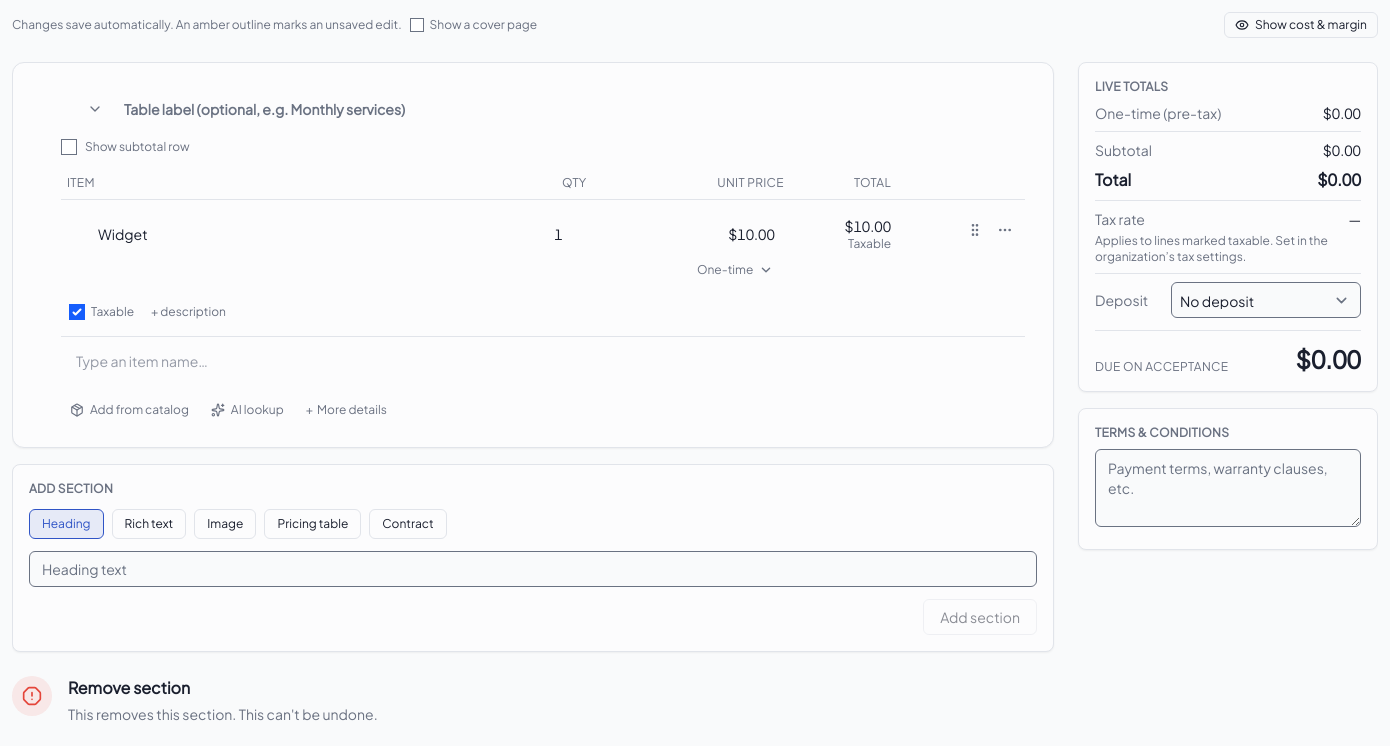
Test: QuoteEditor — add line image from URL › the URL field is hidden until "From URL" is clicked
Expected: the row with test id "quote-line-line-1" is shown, [61,200,1025,292]
Click the button with test id "quote-line-actions-line-1" at (1005,230), box [991,216,1019,244]
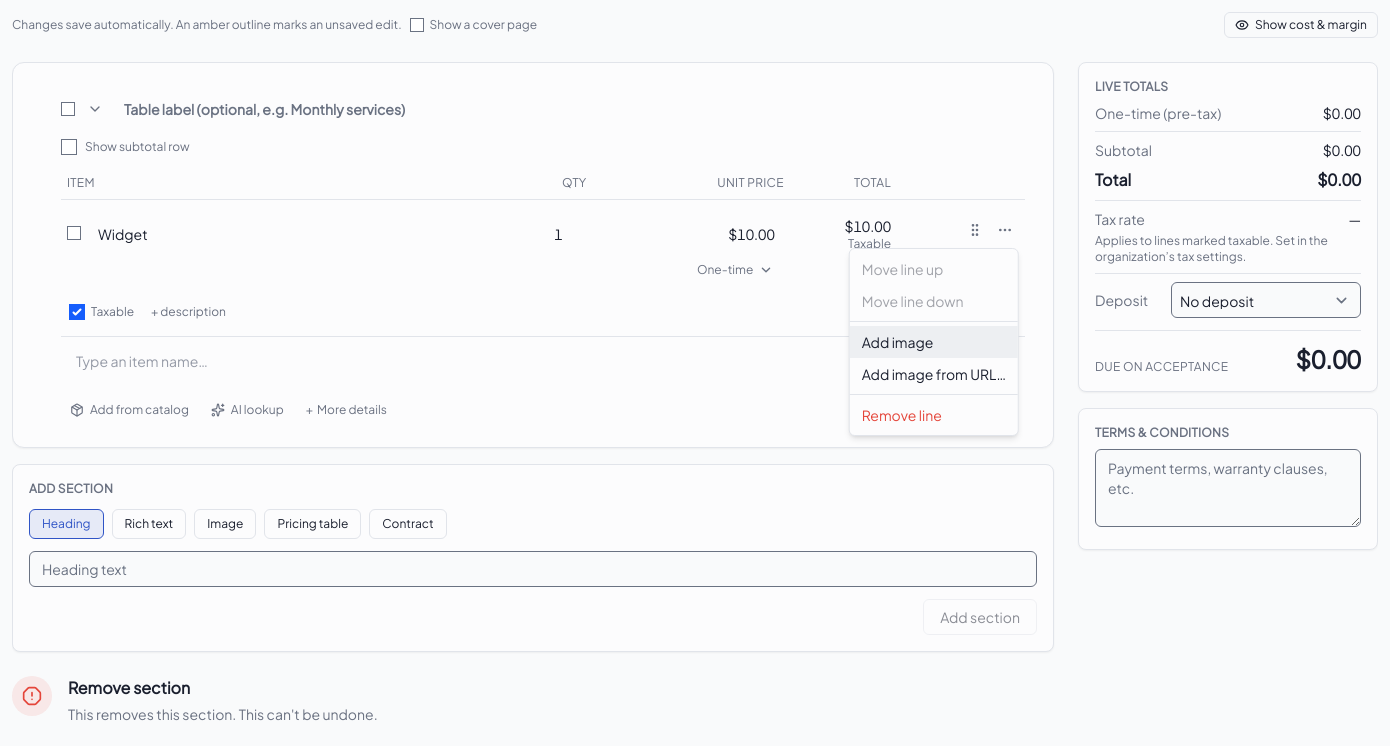
Click the menu item with test id "quote-line-image-url-toggle-line-1" at (934,374), box [850,358,1018,390]
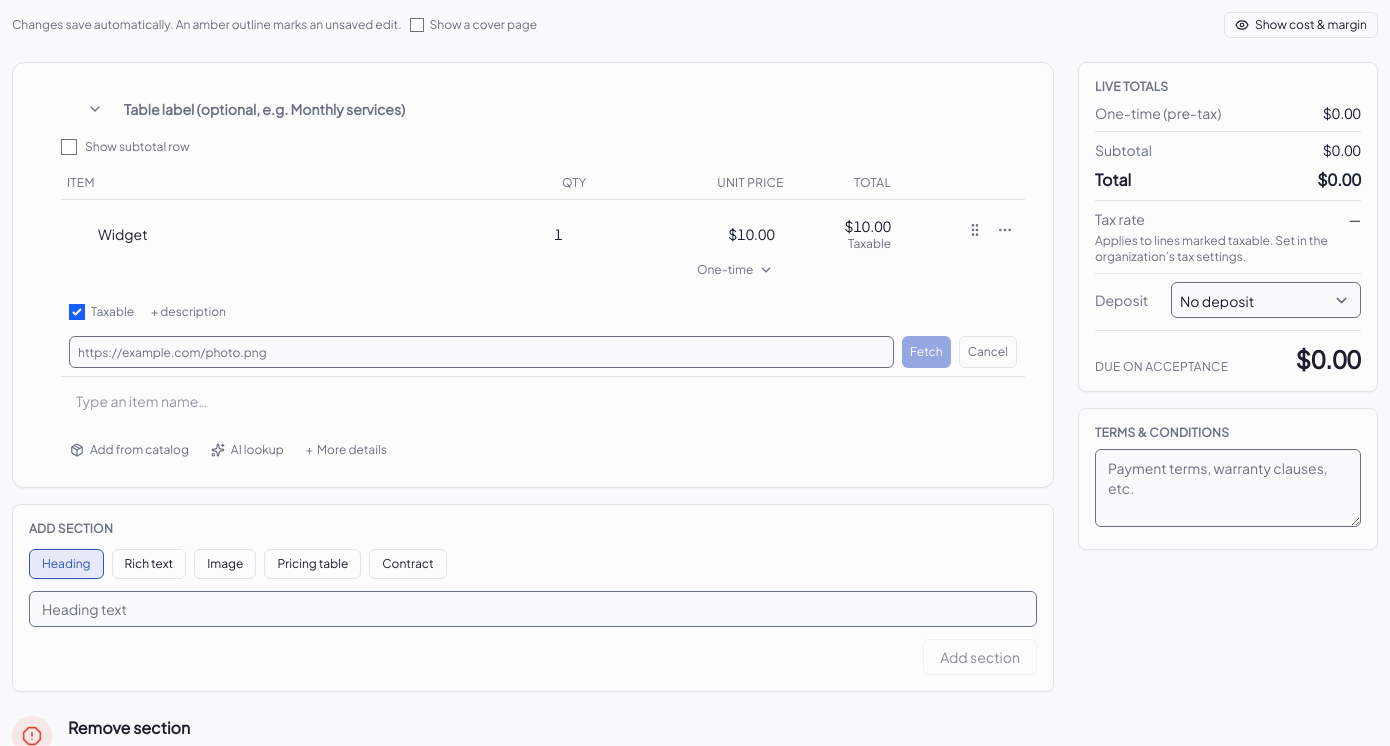
Expected: the field with test id "quote-line-image-url-input-line-1" is shown, [69,336,894,368]
